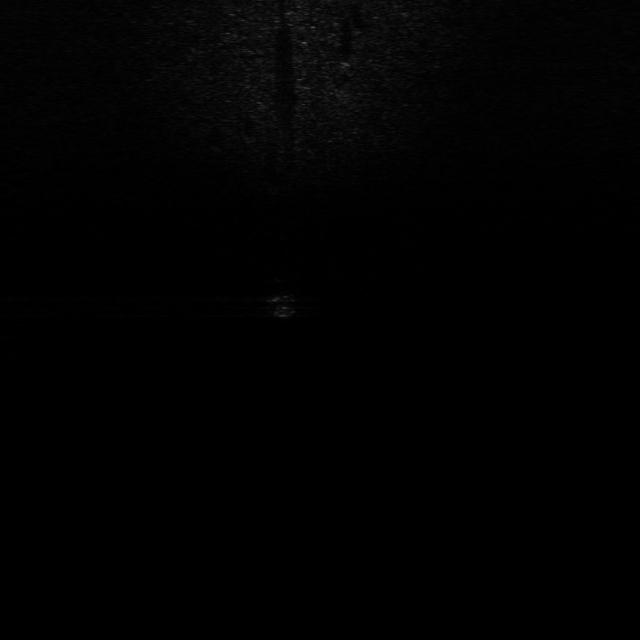human body: (260, 273, 300, 327)
